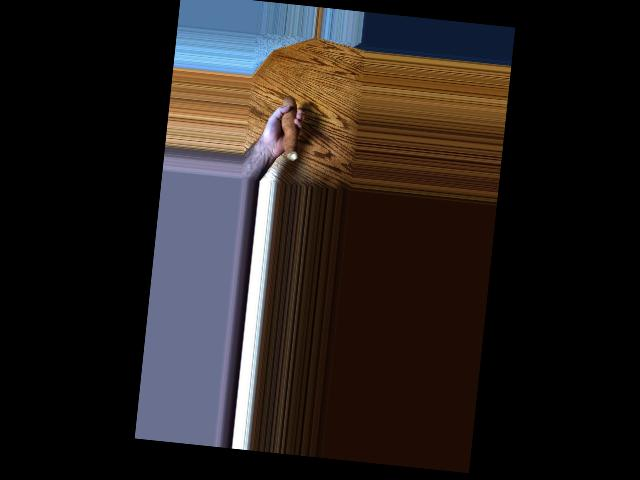sweet_potato: (273, 90, 302, 162)
